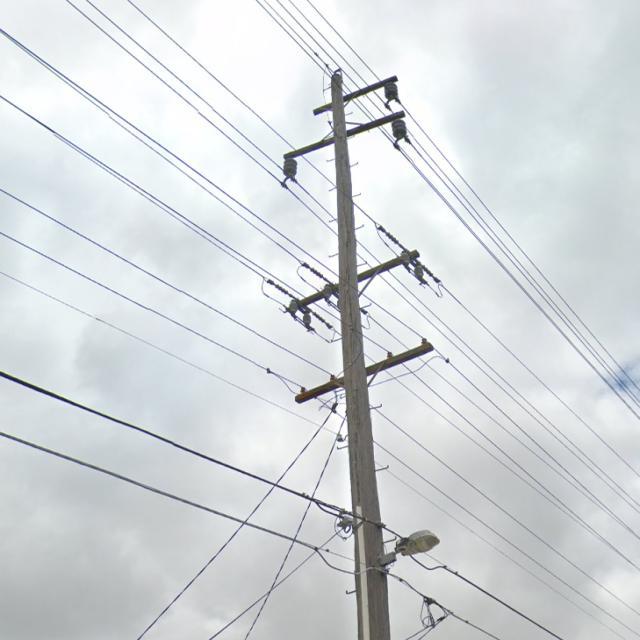HV-transmission: (279, 68, 433, 191), (266, 225, 442, 332)
crossarm: (295, 342, 433, 404), (287, 248, 421, 310), (282, 110, 406, 158), (313, 76, 398, 116)
streetlight: (386, 527, 439, 559)
timber-pole: (329, 71, 391, 640)
